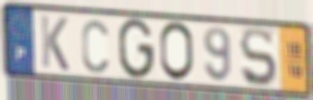9: (202, 25, 233, 83)
C: (80, 17, 110, 75)
G: (117, 16, 156, 81)
K: (38, 13, 71, 73)
O: (158, 20, 196, 84)
S: (238, 25, 279, 89)
